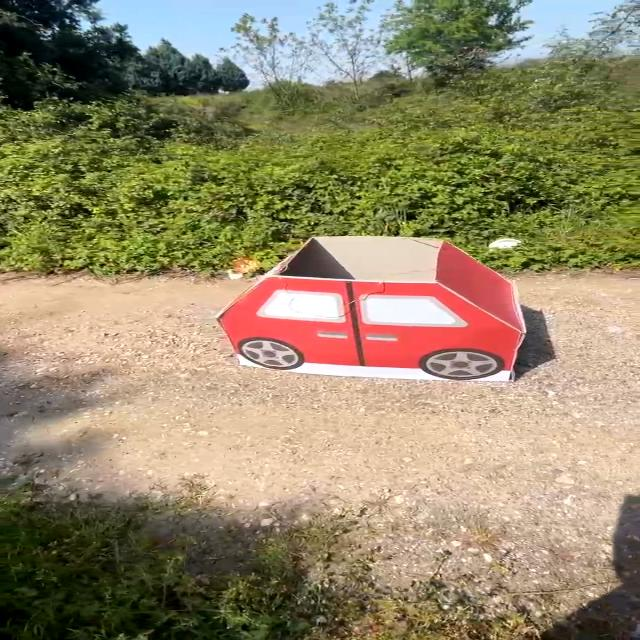red_car: (203, 223, 557, 395)
